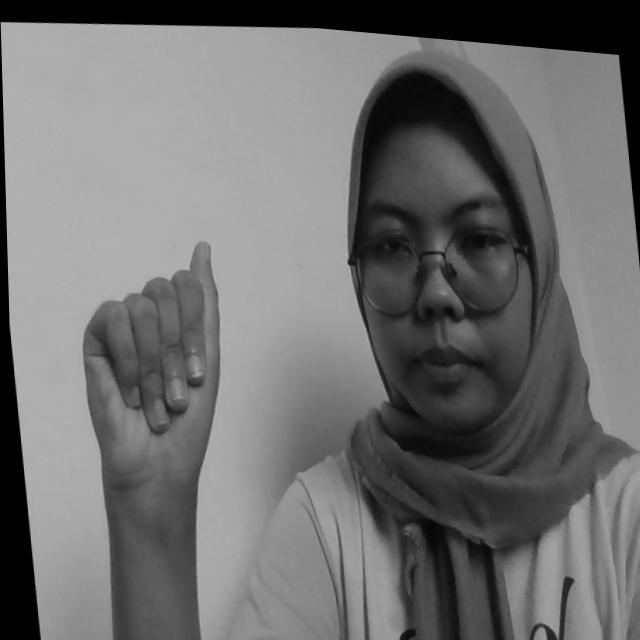A: (68, 225, 234, 480)
